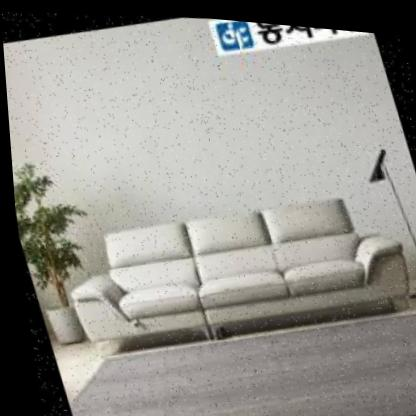Sofa: (31, 143, 416, 409)
